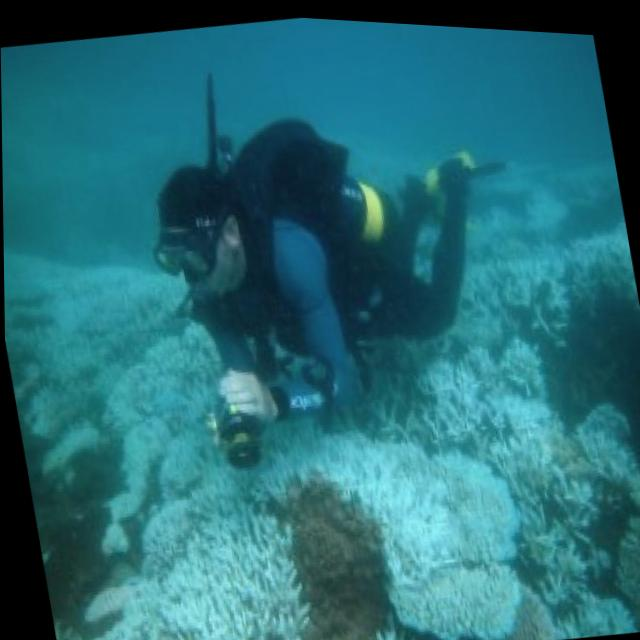Bleached Coral: (347, 383, 640, 640), (3, 223, 202, 502), (365, 250, 576, 447), (95, 473, 319, 640)
